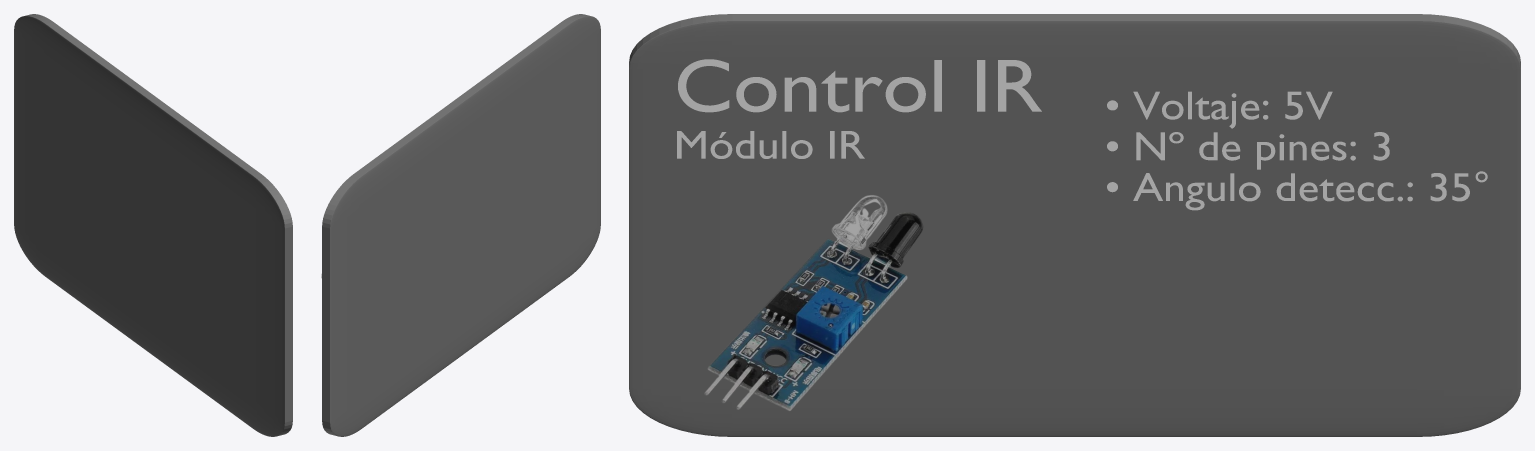
File: IRPopUp.glb
The picture shows the model from 3 angles, left to right: view 1: azimuth 30°, elevation 25°; view 2: azimuth 150°, elevation 25°; view 3: azimuth 270°, elevation 25°; orthographic projection. The views are drawn at different scales.
Parts seen in each view (by area): view 1: Cube; view 2: Cube; view 3: Cube, IRAire, Text.002, Text, Text.001.
Part boxes in pixels (x1,y1,x2,y2): Cube: (14, 14, 292, 436); Cube: (322, 14, 600, 436); Cube: (629, 14, 1520, 436); IRAire: (704, 195, 922, 410); Text.002: (1107, 91, 1487, 210); Text: (678, 59, 1041, 112); Text.001: (677, 131, 864, 158).
Size of the model in its own units: 0.2981 by 2.93 by 5.7.
Materials: 5 (1 with a texture image).
